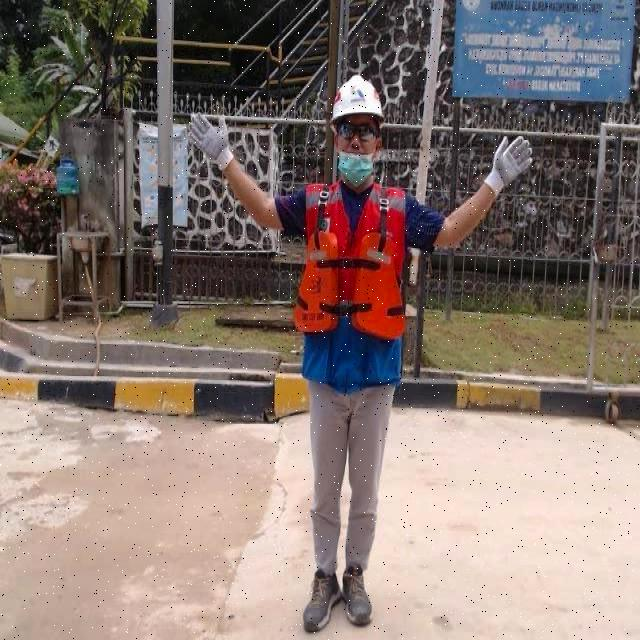Hard_hat: (328, 76, 390, 135)
Vest: (302, 189, 405, 345)
